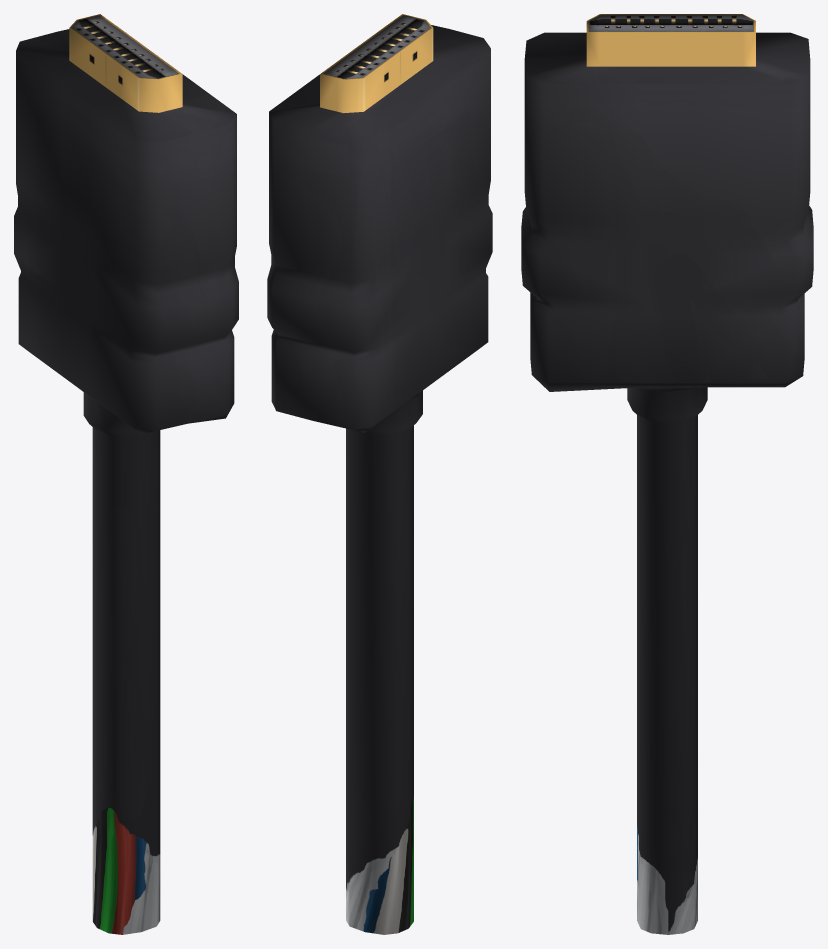
File: HdmiMce.FBX
3 renders of one model, left to right at view 1: azimuth 30°, elevation 25°; view 2: azimuth 150°, elevation 25°; view 3: azimuth 270°, elevation 25°, orthographic. The views are drawn at different scales.
Visible parts, largest first — view 1: Cylinder001; view 2: Cylinder001; view 3: Cylinder001.
Part boxes in pixels (<box>): Cylinder001: <box>14,14,238,934</box>; Cylinder001: <box>267,14,492,934</box>; Cylinder001: <box>521,14,813,934</box>.
Size of the model in its own units: 0.7566 by 6.23 by 1.84.
